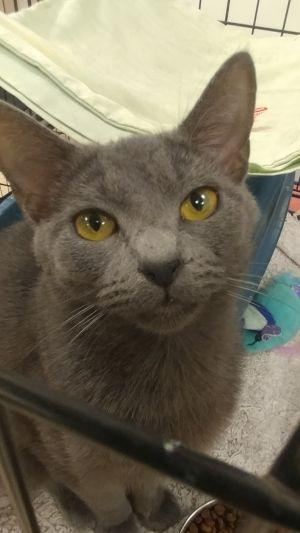rblue: (1, 48, 278, 345)
